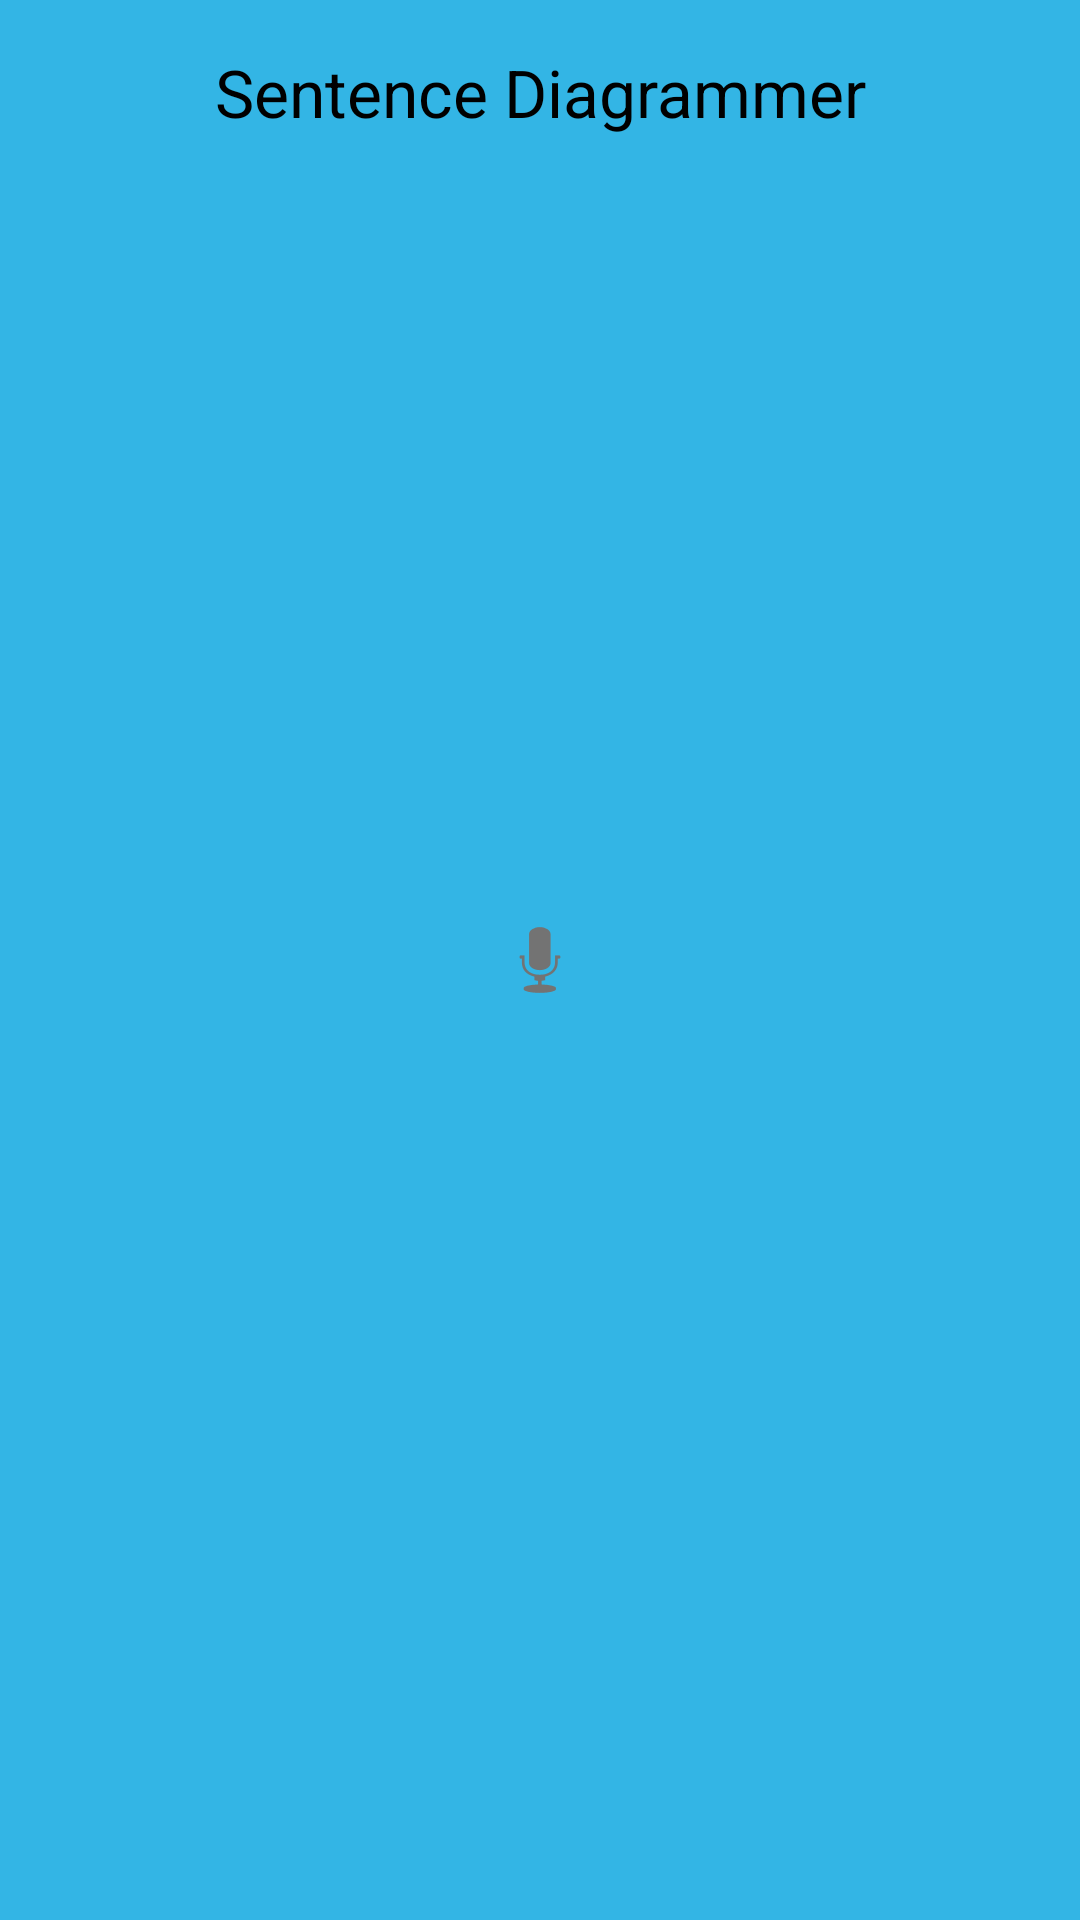

Named icons in this screenshot (1080×1920) and their bounding boxes, (x1, y1, x2, y2):
speak now: (519, 927, 561, 993)
